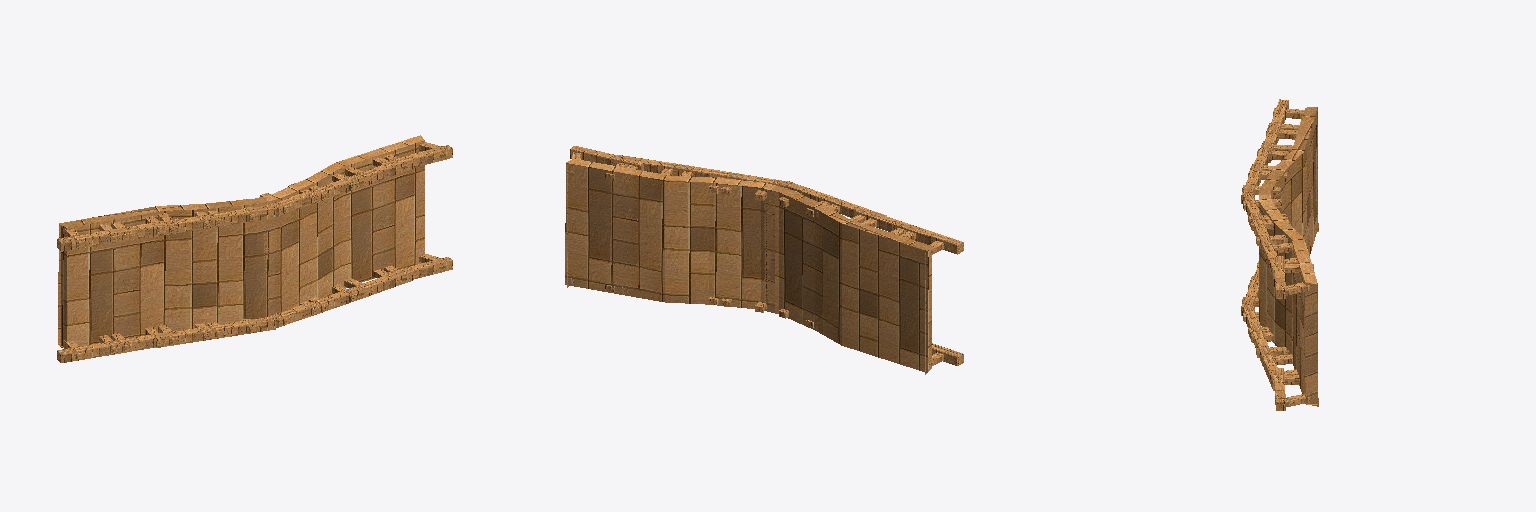
3 renders of one model, left to right at view 1: azimuth 30°, elevation 25°; view 2: azimuth 150°, elevation 25°; view 3: azimuth 270°, elevation 25°, orthographic.
Visible parts, largest first — view 1: Cube.014_Cube.019; view 2: Cube.014_Cube.019; view 3: Cube.014_Cube.019.
Part boxes in pixels (x1,y1,x2,y2): Cube.014_Cube.019: (57, 135, 452, 362); Cube.014_Cube.019: (565, 146, 963, 374); Cube.014_Cube.019: (1241, 99, 1318, 410).
Size of the model in its own units: 22.12 by 6.73 by 3.78.
Materials: 1 (1 with a texture image).